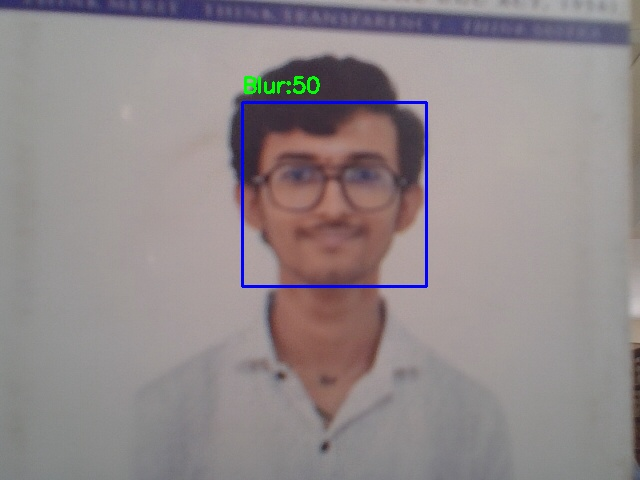fake: (242, 102, 426, 286)
